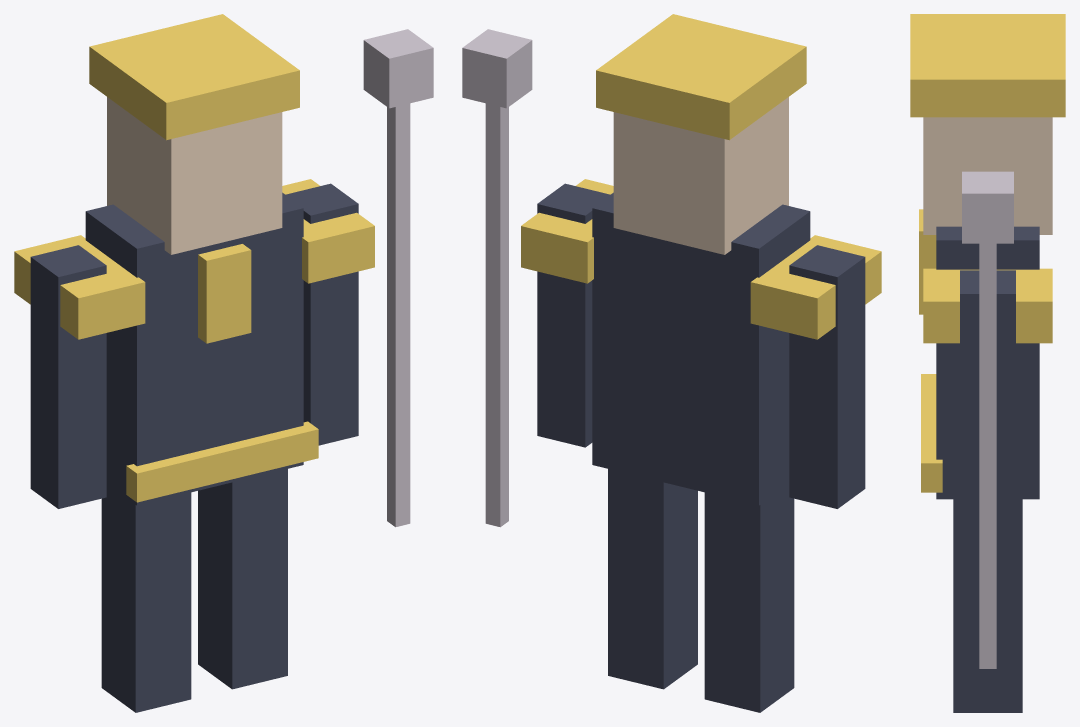
File: 18_ilyra_rootborne_engineer_of_siege.glb
3 renders of one model, left to right at view 1: azimuth 30°, elevation 25°; view 2: azimuth 150°, elevation 25°; view 3: azimuth 270°, elevation 25°, orthographic.
Visible parts, largest first — view 1: Ilyra Rootborne, Engineer of Siege; view 2: Ilyra Rootborne, Engineer of Siege; view 3: Ilyra Rootborne, Engineer of Siege.
Part boxes in pixels (left/top/right/bottom): Ilyra Rootborne, Engineer of Siege: left=14, top=14, right=433, bottom=712; Ilyra Rootborne, Engineer of Siege: left=462, top=14, right=881, bottom=712; Ilyra Rootborne, Engineer of Siege: left=910, top=14, right=1065, bottom=712.
Bounding box in the file's own units: 0.9912 × 1.57 × 0.3516.
